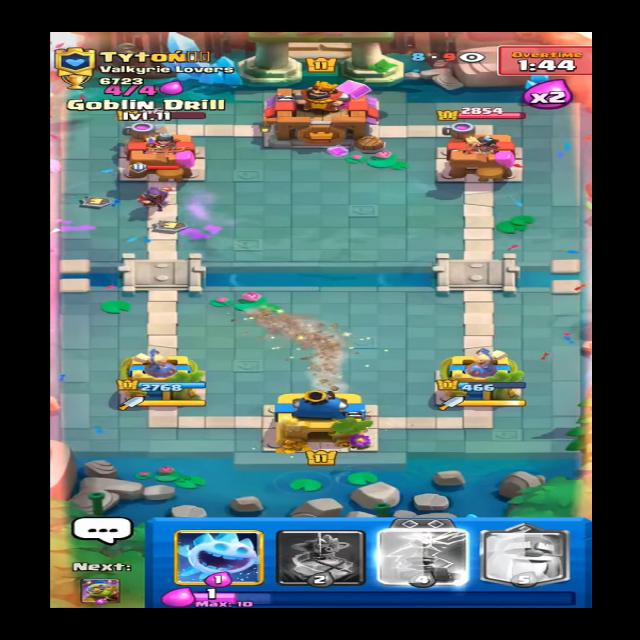Evowizard: (125, 161, 201, 207)
